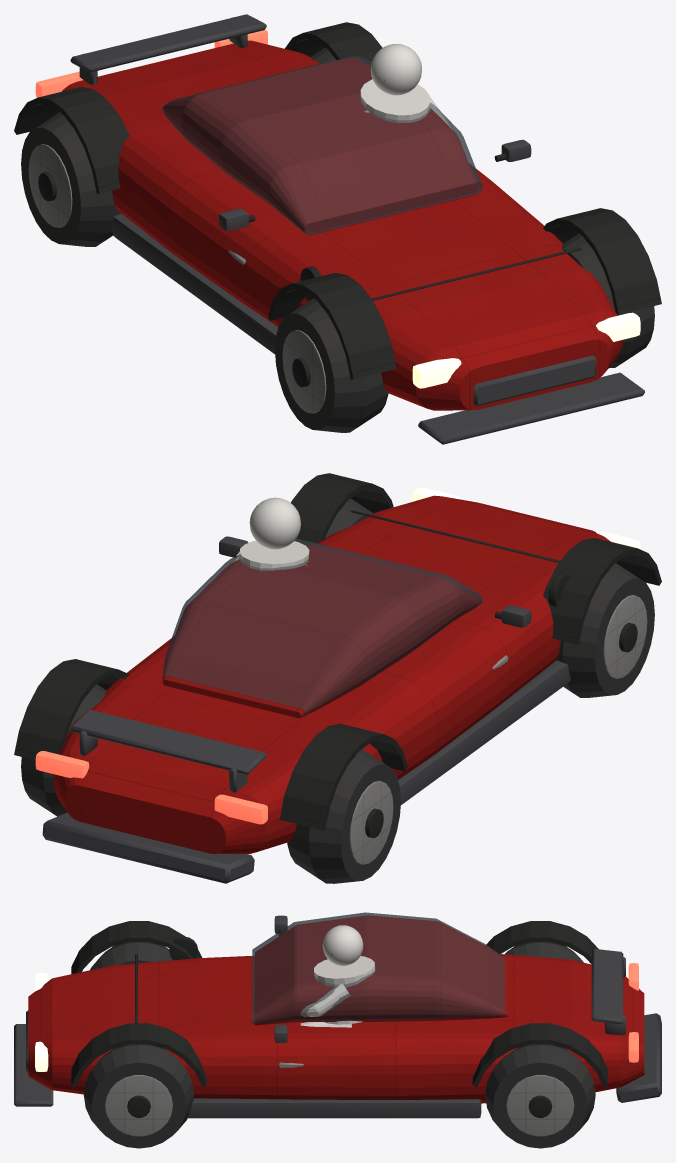
The model's file is roadster.glb.
The picture shows the model from 3 angles, top to bottom: view 1: azimuth 30°, elevation 25°; view 2: azimuth 150°, elevation 25°; view 3: azimuth 270°, elevation 25°; orthographic projection. The views are drawn at different scales.
Visible parts, largest first — view 1: body, glass, cabin, tyre_-0.92_-1.5, arch_-0.92_-1.5, tyre_-0.92_1.55, splitter, arch_0.92_-1.5, arch_-0.92_1.55, sill_r, spoiler, grille (+10 smaller); view 2: body, cabin, glass, tyre_-0.92_1.55, arch_-0.92_1.55, tyre_-0.92_-1.5, diffuser, arch_-0.92_-1.5, arch_0.92_1.55, spoiler, sill_r, arch_0.92_-1.5 (+9 smaller); view 3: body, glass, cabin, sill_l, tyre_0.92_1.55, tyre_0.92_-1.5, arch_0.92_-1.5, arch_0.92_1.55, rim_0.92_1.55, rim_0.92_-1.5, arch_-0.92_-1.5, spoiler (+12 smaller).
Boxes of the visible parts, x1,y1,x2,y2 form: body: (62,40,623,410); glass: (162,56,482,234); cabin: (163,58,478,235); tyre_-0.92_-1.5: (275,298,388,432); arch_-0.92_-1.5: (268,273,396,379); tyre_-0.92_1.55: (21,112,120,246); splitter: (418,372,644,444); arch_0.92_-1.5: (543,208,661,314); arch_-0.92_1.55: (14,87,129,193); sill_r: (112,214,278,354); spoiler: (70,14,266,72); grille: (473,355,595,406); body: (53,495,610,853); cabin: (162,544,478,718); glass: (162,538,482,714); tyre_-0.92_1.55: (287,749,400,883); arch_-0.92_1.55: (279,723,407,830); tyre_-0.92_-1.5: (556,563,654,697); diffuser: (42,812,254,883); arch_-0.92_-1.5: (543,538,661,644); arch_0.92_1.55: (14,659,129,760); spoiler: (70,709,266,774); sill_r: (398,660,570,805); arch_0.92_-1.5: (291,473,393,545); body: (28,954,644,1103); glass: (252,912,504,1024); cabin: (255,915,507,1025); sill_l: (187,1098,481,1118); tyre_0.92_1.55: (485,1044,595,1148); tyre_0.92_-1.5: (83,1044,194,1148); arch_0.92_-1.5: (71,1023,206,1087); arch_0.92_1.55: (472,1023,607,1087); rim_0.92_1.55: (506,1075,574,1136); rim_0.92_-1.5: (105,1075,172,1136); arch_-0.92_-1.5: (71,921,202,974); spoiler: (591,949,623,1024).
Size of the model in its own units: 2.3 by 1.6 by 4.92.
Materials: 10 (3 with a texture image).
